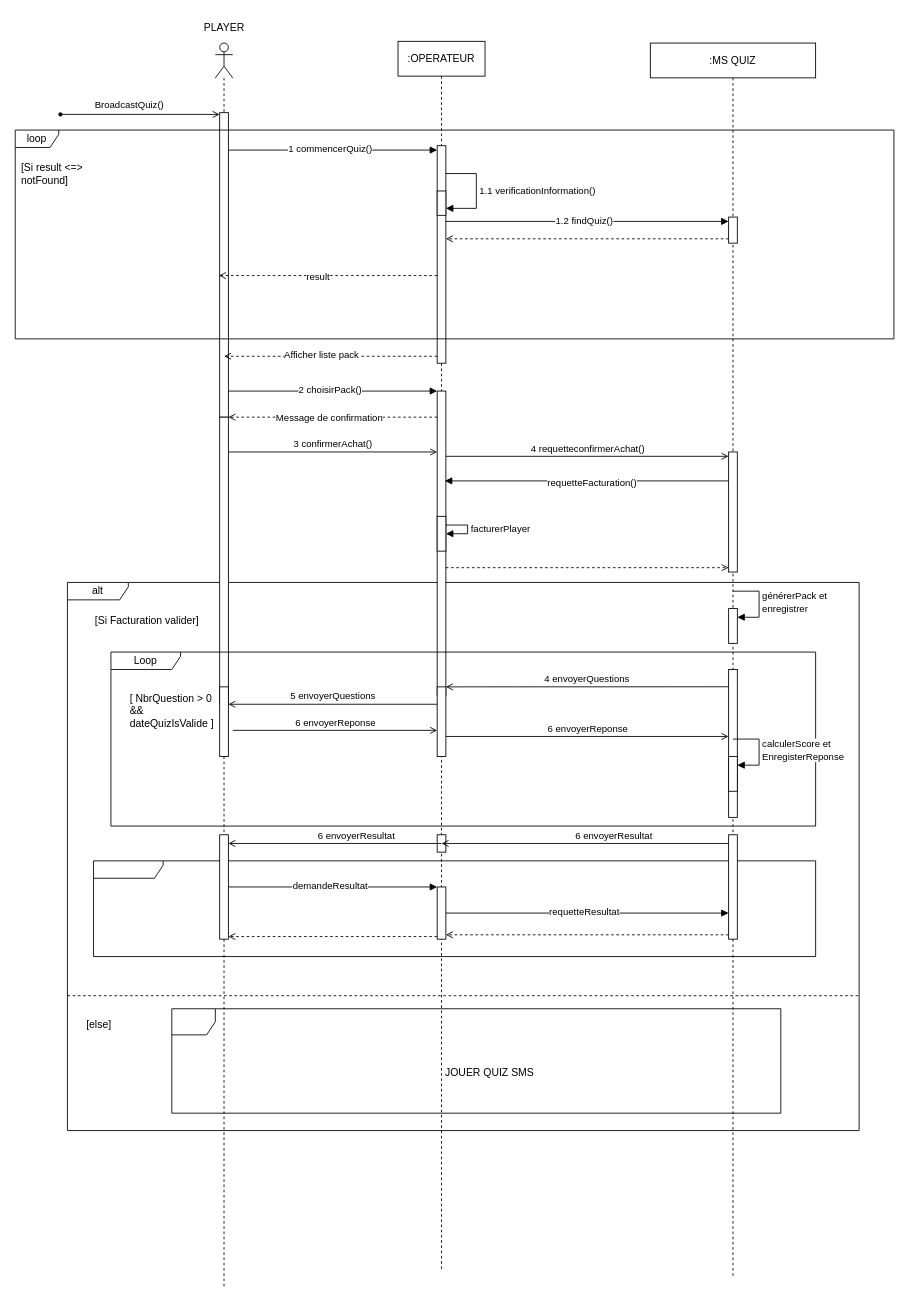
This 909x1302 diagram has some shape labels left out. The box of each missing label's shape, as (x1, y1, x2, y2) in pixels:
Opt: (93, 860, 816, 957)
Ref: (171, 1008, 781, 1113)
